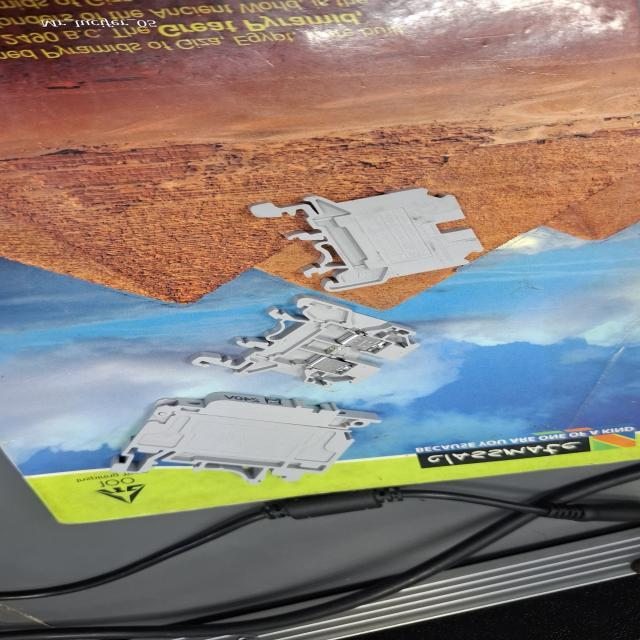Inverted: (246, 187, 491, 291)
Pass: (185, 292, 424, 390)
